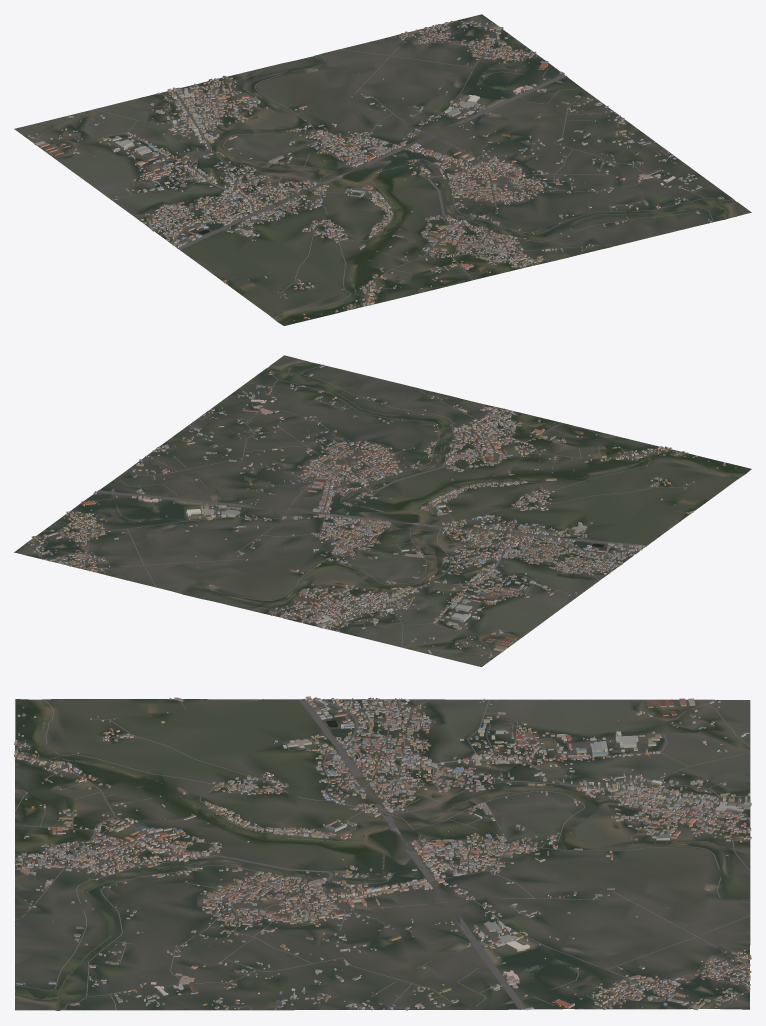
3 views of the same model, one above another, from view 1: azimuth 30°, elevation 25°; view 2: azimuth 150°, elevation 25°; view 3: azimuth 270°, elevation 25° (orthographic). The views are drawn at different scales.
Parts seen in each view (by area): view 1: ground, buildings, roads, water; view 2: ground, buildings, roads, water; view 3: ground, buildings, roads, water.
Part boxes in pixels (<box>): ground: <box>14,14,751,325</box>; buildings: <box>28,20,724,320</box>; roads: <box>26,21,733,318</box>; water: <box>198,58,735,318</box>; ground: <box>14,355,751,666</box>; buildings: <box>27,364,736,658</box>; roads: <box>15,365,739,658</box>; water: <box>141,362,735,604</box>; ground: <box>15,699,750,1010</box>; buildings: <box>14,696,751,1010</box>; roads: <box>14,698,750,1009</box>; water: <box>15,704,742,1010</box>.
Size of the model in its own units: 2819 by 25.29 by 2814.
